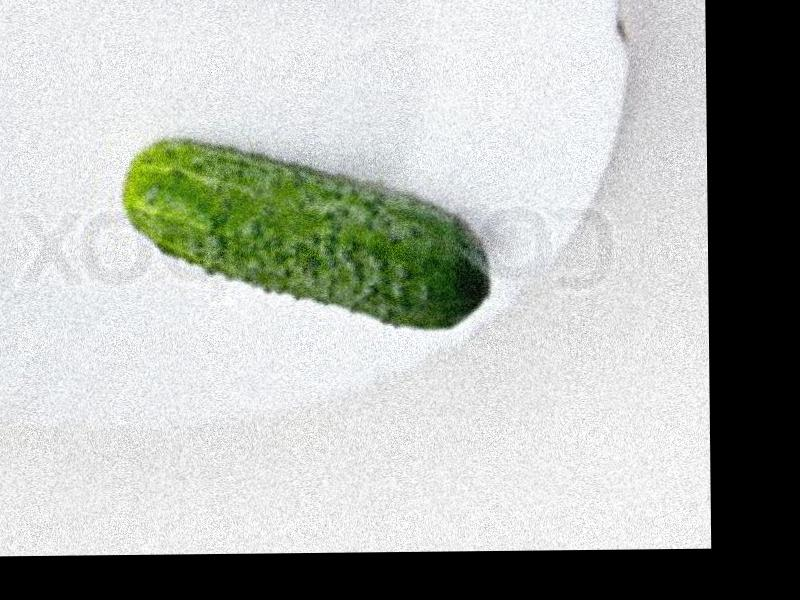Cucumber: (124, 135, 486, 332)
